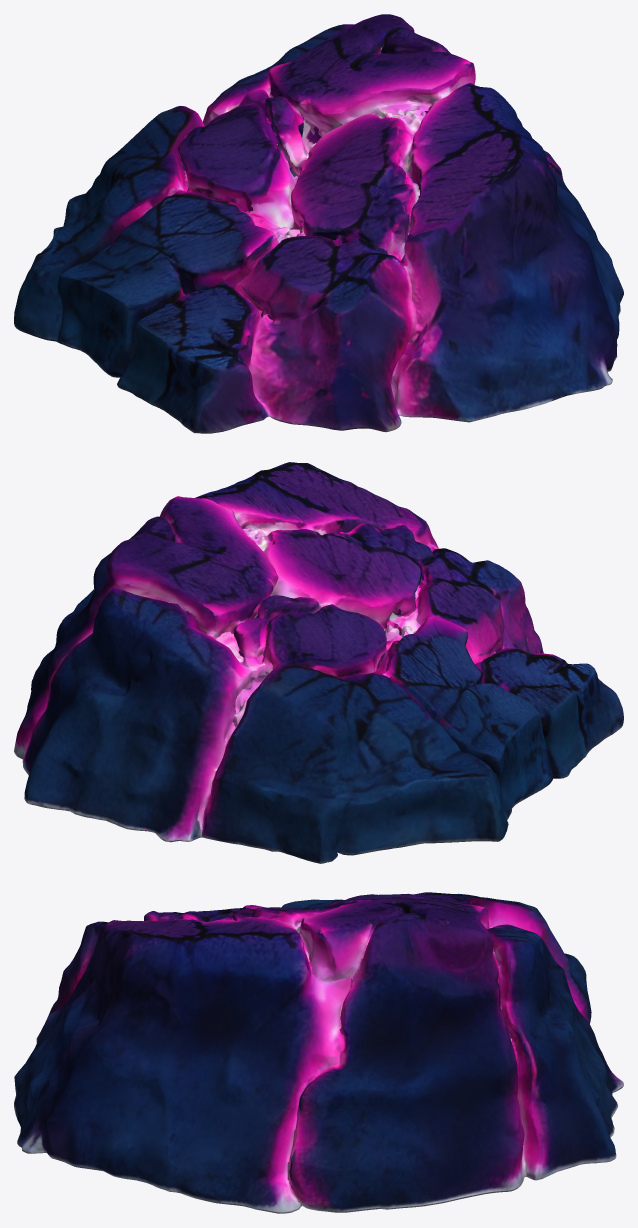
Rendered from shore-stone-6-generated-2026-05-17T20-07-37-262Z.high.glb.
The picture shows the model from 3 angles, top to bottom: view 1: azimuth 30°, elevation 25°; view 2: azimuth 150°, elevation 25°; view 3: azimuth 270°, elevation 25°; orthographic projection. The views are drawn at different scales.
Visible parts, largest first — view 1: temp_mesh.ply; view 2: temp_mesh.ply; view 3: temp_mesh.ply.
Boxes of the visible parts, x1,y1,x2,y2 form: temp_mesh.ply: [14, 14, 623, 433]; temp_mesh.ply: [14, 462, 623, 863]; temp_mesh.ply: [14, 892, 623, 1213].
Size of the model in its own units: 1.97 by 0.8093 by 1.97.
Materials: 1 (1 with a texture image).
